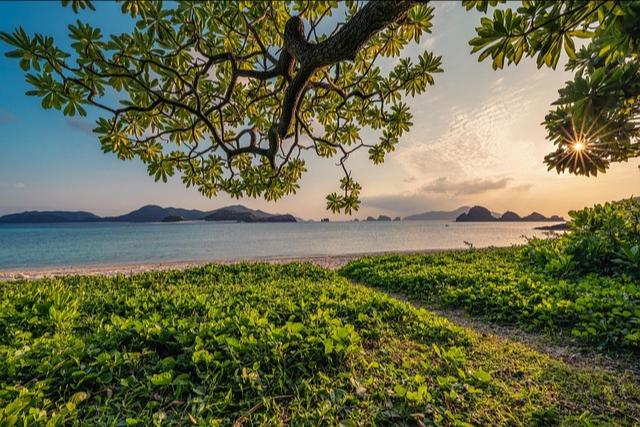Non_Gorille: (22, 22, 598, 362)
